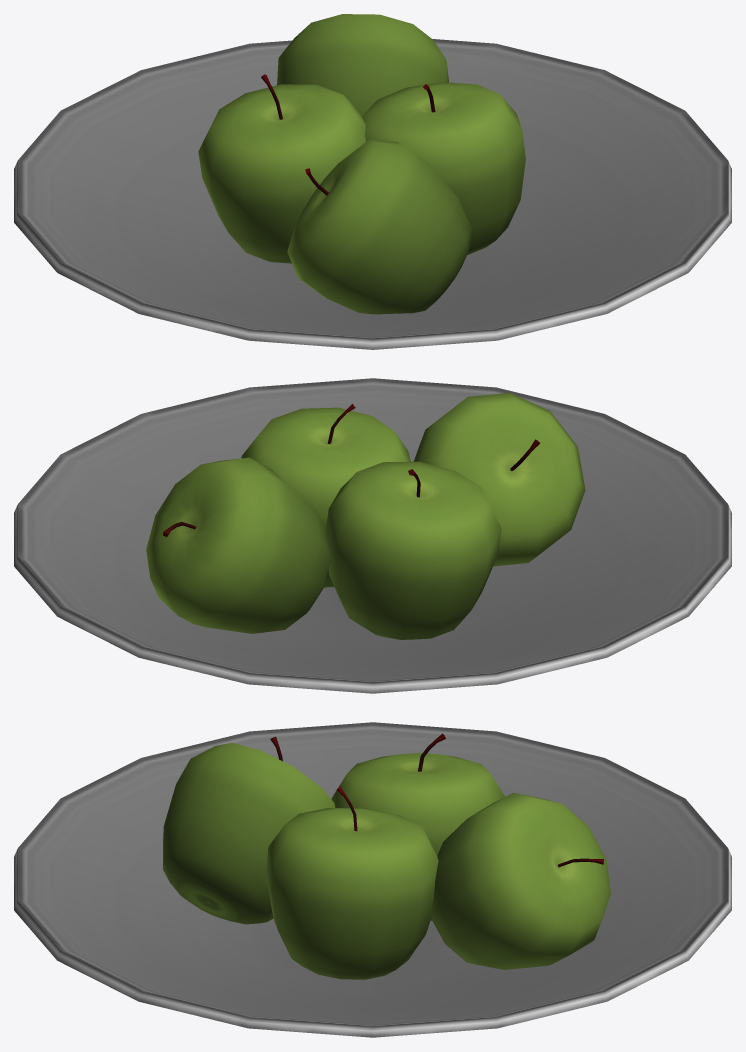
File: Apple.FBX
The picture shows the model from 3 angles, top to bottom: view 1: azimuth 30°, elevation 25°; view 2: azimuth 150°, elevation 25°; view 3: azimuth 270°, elevation 25°; orthographic projection.
Parts seen in each view (by area): view 1: Apple; view 2: Apple; view 3: Apple.
Boxes of the visible parts, x1,y1,x2,y2 form: Apple: (14, 14, 731, 349); Apple: (14, 378, 731, 693); Apple: (14, 722, 731, 1037).
Size of the model in its own units: 36.22 by 35.67 by 9.68.
Materials: 1 (1 with a texture image).
